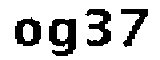3: (84, 10, 113, 49)
7: (115, 6, 150, 48)
g: (46, 14, 78, 60)
o: (13, 18, 43, 48)
